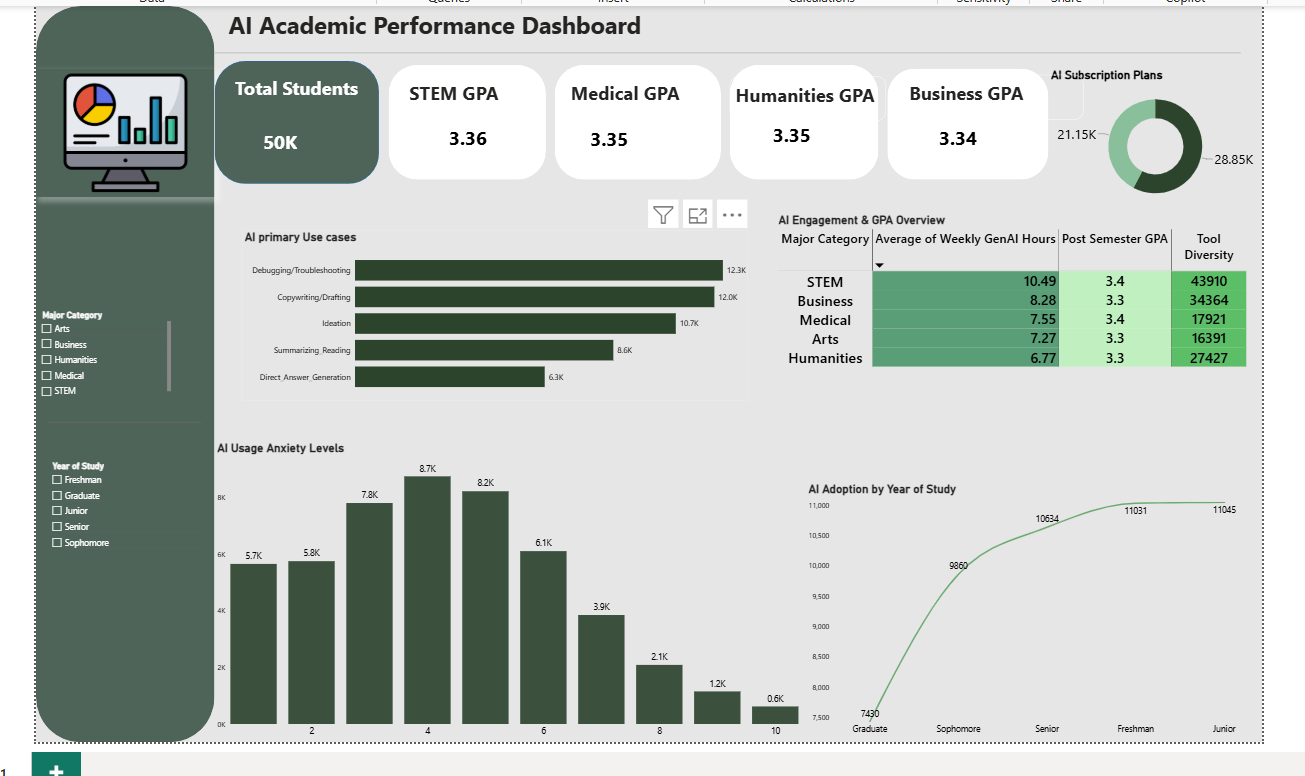

What the dashboard file says about the page in this screenshot:
{"tool":"powerbi","page":{"name":"Page 1","canvas":[2500,1500],"ordinal":0},"visuals":[{"type":"shape","box":[0,0,2499.2,1500.5],"z":0},{"type":"shape","box":[364.3,112.8,334.8,250.2],"z":1000,"group":"g1"},{"type":"shape","box":[718.4,119.7,321,234.4],"z":1000},{"type":"shape","box":[1056.4,119.7,338.8,234.4],"z":2000},{"type":"shape","box":[1413.9,119.7,303.2,234.4],"z":3000},{"type":"shape","box":[1734.9,127.4,328.6,226.7],"z":4000},{"type":"shape","box":[0,0,363.8,1500.7],"z":5000},{"type":"shape","box":[364.3,12.7,2091.6,165.6],"z":6000},{"type":"textbox","box":[388.3,0,953.3,109.8],"z":7000},{"type":"clusteredBarChart","title":"AI primary Use cases","fields":{"Category":["ai_student_impact_dataset (1).Primary_Use_Case"],"Y":["CountNonNull(ai_student_impact_dataset (1).Student_ID)"]},"box":[420.3,456,1031.8,349],"z":8000},{"type":"cardVisual","fields":{"Data":["CountNonNull(ai_student_impact_dataset (1).Student_ID)"]},"box":[389.7,94.3,596.1,361.8],"z":9000,"group":"g1"},{"type":"donutChart","title":"AI Subscription Plans","fields":{"Category":["ai_student_impact_dataset (1).Paid_Subscription"],"Y":["CountNonNull(ai_student_impact_dataset (1).Student_ID)"]},"box":[2063.5,127.4,435.6,290.4],"z":9000},{"type":"textbox","box":[382.9,137.3,297.6,89.8],"z":10000,"group":"g1"},{"type":"lineClusteredColumnComboChart","title":"AI Usage Anxiety Levels","fields":{"Category":["ai_student_impact_dataset (1).Anxiety_Level_During_Exams"],"Y":["CountNonNull(ai_student_impact_dataset (1).Student_ID)"]},"box":[364.3,886.6,1194.8,614],"z":10000},{"type":"cardVisual","fields":{"Data":["Avg(ai_student_impact_dataset (1).Post_Semester_GPA)"],"Rows":["ai_student_impact_dataset (1).Major_Category"]},"box":[811.9,151.5,364.3,280.2],"z":11000,"group":"g2"},{"type":"lineChart","title":"AI Adoption by Year of Study","fields":{"Category":["ai_student_impact_dataset (1).Year_of_Study"],"Y":["CountNonNull(ai_student_impact_dataset (1).Student_ID)"]},"box":[1569.3,970.6,929.9,524.8],"z":11000},{"type":"cardVisual","fields":{"Data":["Avg(ai_student_impact_dataset (1).Post_Semester_GPA)"],"Rows":["ai_student_impact_dataset (1).Major_Category"]},"box":[1101,164.6,385.2,254.1],"z":12000,"group":"g3"},{"type":"pivotTable","title":"AI Engagement & GPA Overview","fields":{"Rows":["ai_student_impact_dataset (1).Major_Category"],"Values":["Avg(ai_student_impact_dataset (1).Weekly_GenAI_Hours)","Avg(ai_student_impact_dataset (1).Post_Semester_GPA)","Sum(ai_student_impact_dataset (1).Tool_Diversity)"]},"box":[1508.2,422.9,991,499.3],"z":12000},{"type":"cardVisual","fields":{"Data":["Avg(ai_student_impact_dataset (1).Post_Semester_GPA)"],"Rows":["ai_student_impact_dataset (1).Major_Category"]},"box":[1471.9,159.6,395.9,259.5],"z":13000,"group":"g4"},{"type":"slicer","fields":{"Values":["ai_student_impact_dataset (1).Year_of_Study"]},"box":[20.4,922.2,321,208.9],"z":13000},{"type":"cardVisual","fields":{"Data":["Avg(ai_student_impact_dataset (1).Post_Semester_GPA)"],"Rows":["ai_student_impact_dataset (1).Major_Category"]},"box":[1811.3,165.6,387.2,259.9],"z":14000},{"type":"textbox","box":[749,140.1,244.6,91.7],"z":15000,"group":"g2"},{"type":"shape","box":[25.5,810.1,310.8,76.4],"z":15000},{"type":"image","box":[0,127.4,364.3,262.4],"z":16000},{"type":"textbox","box":[1080.2,142.7,264.9,86.6],"z":16000,"group":"g3"},{"type":"group","id":"g1","title":"Group 1","box":[364.3,94.3,621.6,361.8],"z":17000},{"type":"textbox","box":[1413.9,142.7,318.4,91.7],"z":17000,"group":"g4"},{"type":"group","id":"g2","title":"Group 2","box":[749,140.1,428,290.4],"z":18000},{"type":"group","id":"g3","title":"Group 3","box":[1080.2,142.7,405.1,275.1],"z":19000},{"type":"textbox","box":[1768,140.1,366.8,91.7],"z":20000},{"type":"group","id":"g4","title":"Group 4","box":[1413.9,142.7,453.5,277.7],"z":21000},{"type":"slicer","fields":{"Values":["ai_student_impact_dataset (1).Major_Category"]},"box":[0,614,280.2,188.5],"z":22000}]}

Visuals, with their boxes in screenshot pixels (x1, y1, x2, y2):
shape: bbox=[31, 3, 1259, 741]
shape: bbox=[210, 59, 374, 182]
shape: bbox=[384, 62, 541, 177]
shape: bbox=[550, 62, 716, 177]
shape: bbox=[725, 62, 874, 177]
shape: bbox=[883, 66, 1045, 177]
shape: bbox=[31, 3, 209, 741]
shape: bbox=[210, 10, 1237, 91]
textbox: bbox=[221, 3, 690, 57]
"AI primary Use cases" clusteredBarChart: bbox=[237, 227, 744, 399]
cardVisual - CountNonNull(ai_student_impact_dataset (1).Student_ID): bbox=[222, 50, 515, 228]
"AI Subscription Plans" donutChart: bbox=[1045, 66, 1259, 209]
textbox: bbox=[219, 71, 365, 115]
"AI Usage Anxiety Levels" lineClusteredColumnComboChart: bbox=[210, 439, 797, 741]
cardVisual - Avg(ai_student_impact_dataset (1).Post_Semester_GPA) x ai_student_impact_dataset (1).Major_Category: bbox=[430, 78, 609, 216]
"AI Adoption by Year of Study" lineChart: bbox=[802, 480, 1259, 738]
cardVisual - Avg(ai_student_impact_dataset (1).Post_Semester_GPA) x ai_student_impact_dataset (1).Major_Category: bbox=[572, 84, 761, 209]
"AI Engagement & GPA Overview" pivotTable: bbox=[772, 211, 1259, 457]
cardVisual - Avg(ai_student_impact_dataset (1).Post_Semester_GPA) x ai_student_impact_dataset (1).Major_Category: bbox=[754, 82, 948, 209]
slicer - ai_student_impact_dataset (1).Year_of_Study: bbox=[41, 457, 198, 559]
cardVisual - Avg(ai_student_impact_dataset (1).Post_Semester_GPA) x ai_student_impact_dataset (1).Major_Category: bbox=[921, 85, 1111, 212]
textbox: bbox=[399, 72, 519, 117]
shape: bbox=[43, 401, 196, 439]
image: bbox=[31, 66, 210, 195]
textbox: bbox=[561, 74, 692, 116]
"Group 1" group: bbox=[210, 50, 515, 228]
textbox: bbox=[725, 74, 882, 119]
"Group 2" group: bbox=[399, 72, 609, 215]
"Group 3" group: bbox=[561, 74, 760, 209]
textbox: bbox=[899, 72, 1080, 117]
"Group 4" group: bbox=[725, 74, 948, 210]
slicer - ai_student_impact_dataset (1).Major_Category: bbox=[31, 305, 168, 398]
